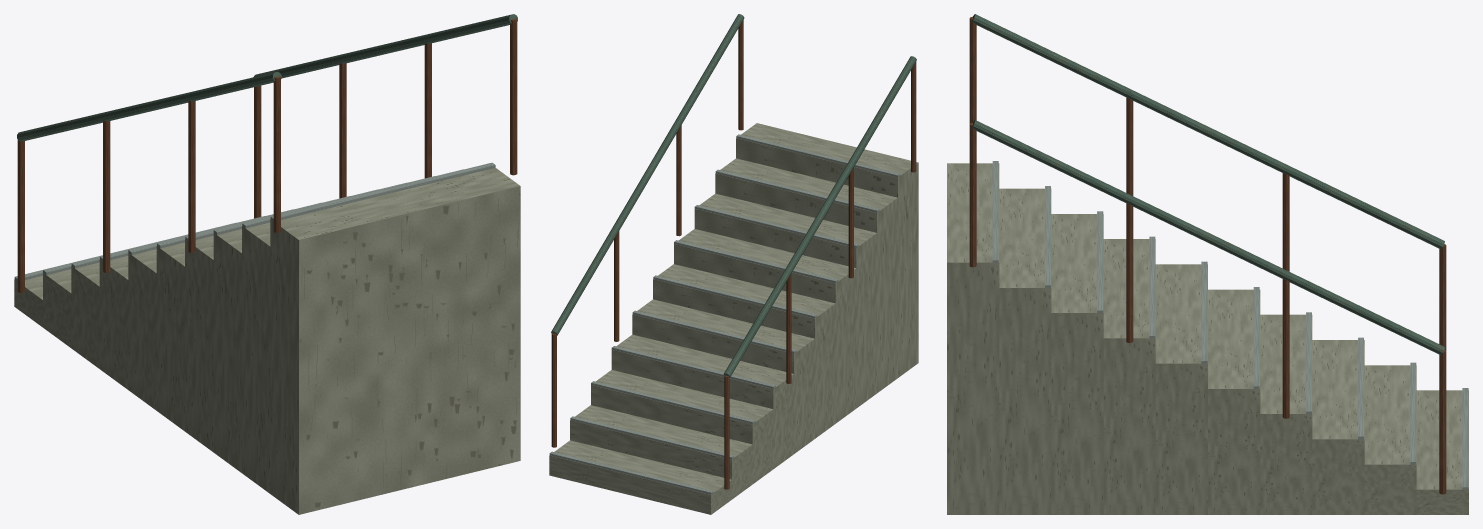
Rendered from Stair_3m.obj.
The picture shows the model from 3 angles, left to right: view 1: azimuth 30°, elevation 25°; view 2: azimuth 150°, elevation 25°; view 3: azimuth 270°, elevation 25°; orthographic projection. The views are drawn at different scales.
Parts seen in each view (by area): view 1: Stair_3m; view 2: Stair_3m; view 3: Stair_3m.
Boxes of the visible parts, x1=… form: Stair_3m: x1=14, y1=14, x2=520, y2=514; Stair_3m: x1=549, y1=14, x2=918, y2=514; Stair_3m: x1=947, y1=14, x2=1468, y2=514.
Size of the model in its own units: 1.49 by 2.52 by 3.
Materials: 4 (4 with a texture image).
